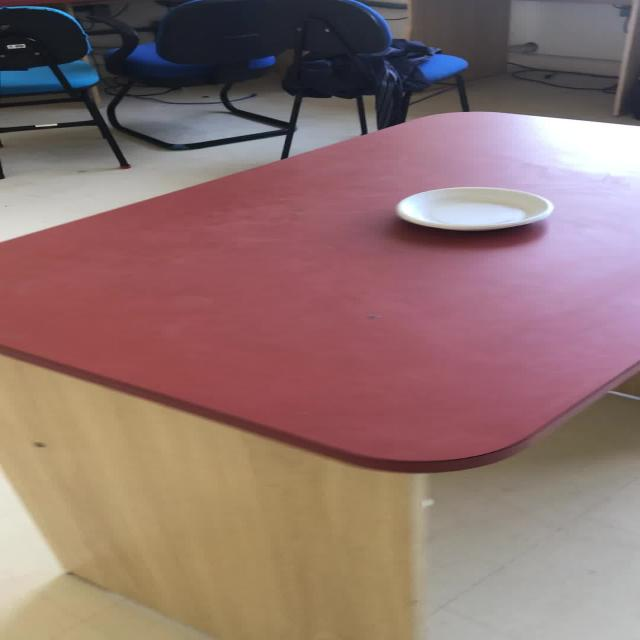plate: (394, 186, 553, 232)
